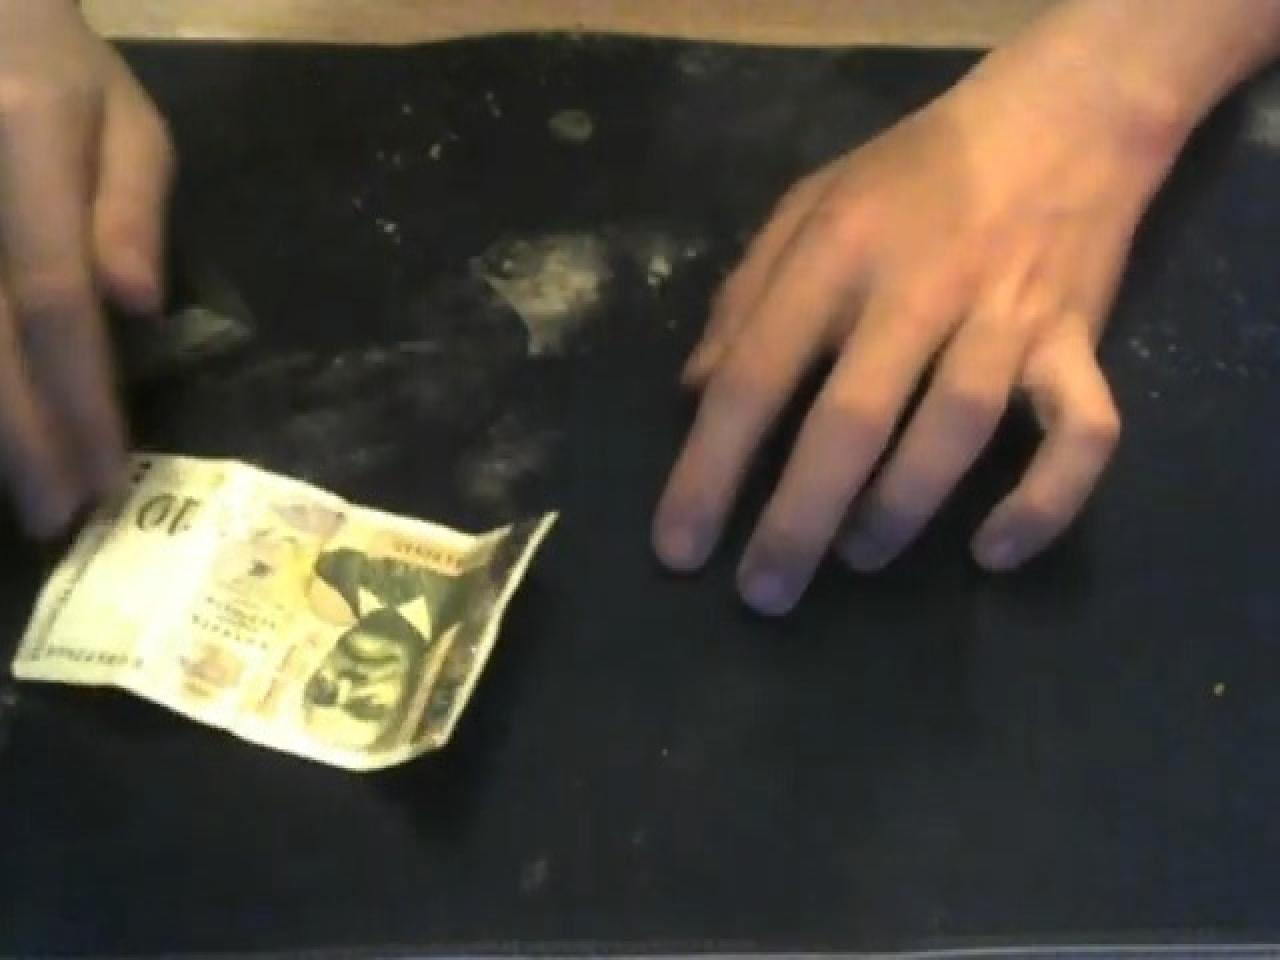10leva: (10, 456, 558, 776)
